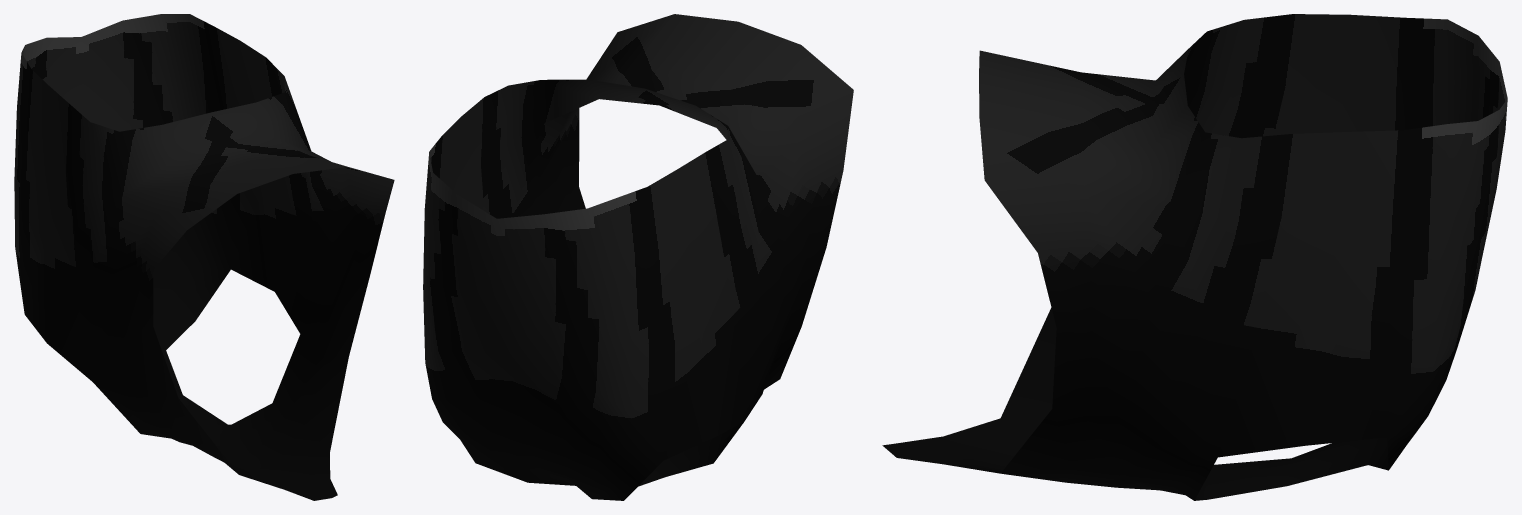
File: Armor.glb
3 views of the same model, side by side, from view 1: azimuth 30°, elevation 25°; view 2: azimuth 150°, elevation 25°; view 3: azimuth 270°, elevation 25° (orthographic). The views are drawn at different scales.
Visible parts, largest first — view 1: Armor; view 2: Armor; view 3: Armor.
Boxes of the visible parts, x1=… form: Armor: x1=14, y1=14, x2=394, y2=500; Armor: x1=423, y1=14, x2=853, y2=500; Armor: x1=882, y1=14, x2=1507, y2=500.
Bounding box in the file's own units: 0.7614 × 1.04 × 1.42.
1 material, 1 textured.
